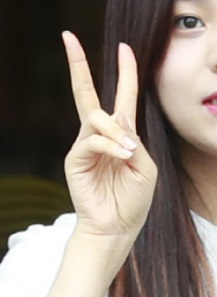peace: (61, 30, 158, 236)
